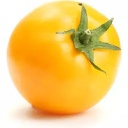tomato: (7, 1, 120, 114)
